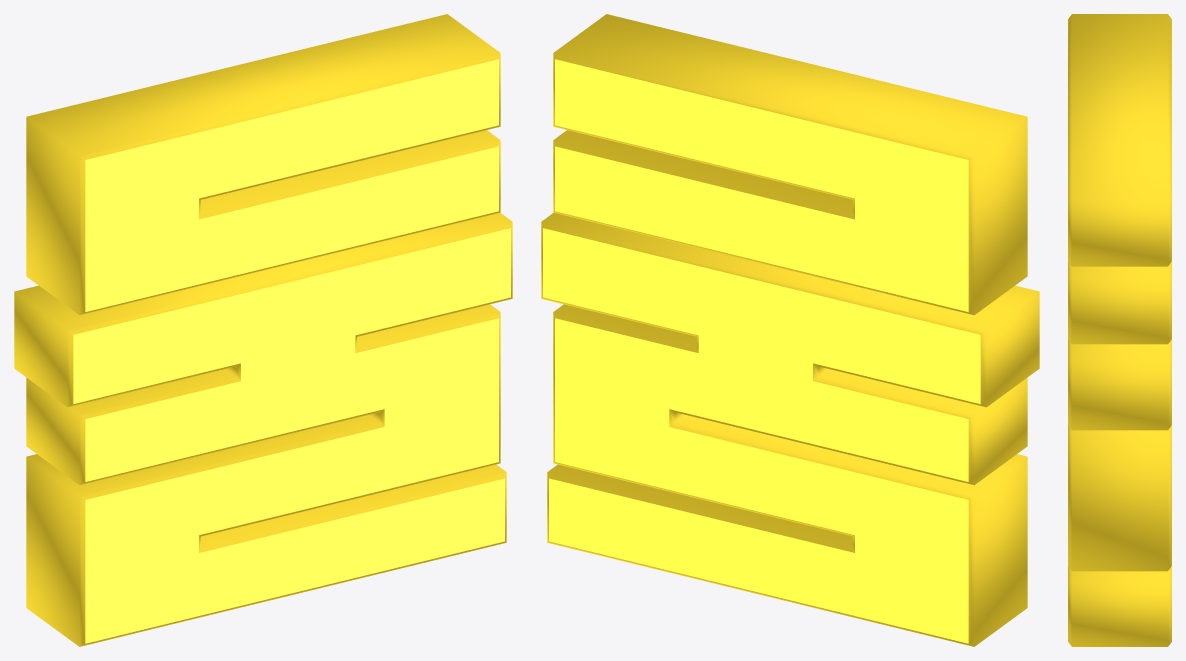
The picture shows the model from 3 angles, left to right: view 1: azimuth 30°, elevation 25°; view 2: azimuth 150°, elevation 25°; view 3: azimuth 270°, elevation 25°; orthographic projection. The views are drawn at different scales.
Parts seen in each view (by area): view 1: glyph; view 2: glyph; view 3: glyph.
Part boxes in pixels (x1=…): glyph: x1=14, y1=14, x2=512, y2=646; glyph: x1=541, y1=14, x2=1039, y2=646; glyph: x1=1068, y1=14, x2=1171, y2=646.
Size of the model in its own units: 0.0726 by 0.0766 by 0.0162.
